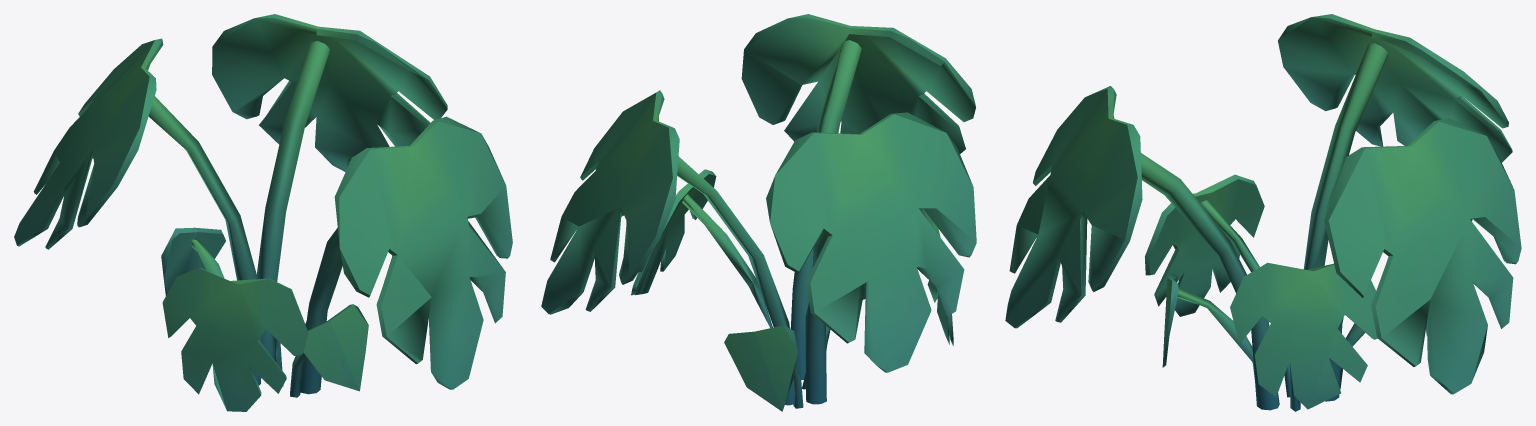
Rendered from monstera.glb.
The picture shows the model from 3 angles, left to right: view 1: azimuth 30°, elevation 25°; view 2: azimuth 150°, elevation 25°; view 3: azimuth 270°, elevation 25°; orthographic projection. The views are drawn at different scales.
Parts seen in each view (by area): view 1: monstera_plant_medium; view 2: monstera_plant_medium; view 3: monstera_plant_medium.
Part boxes in pixels (box(x1,y1,x2,y2)): monstera_plant_medium: box(14, 14, 512, 411); monstera_plant_medium: box(541, 14, 976, 411); monstera_plant_medium: box(1005, 14, 1521, 411).
Size of the model in its own units: 2.02 by 1.56 by 2.22.
1 material, 1 textured.
